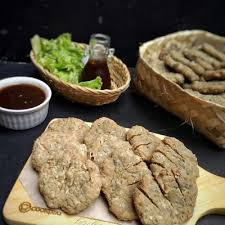Pempek kulit: (38, 150, 102, 215), (136, 166, 195, 225), (102, 141, 145, 219), (30, 123, 87, 156), (89, 114, 123, 160), (154, 141, 198, 170)
